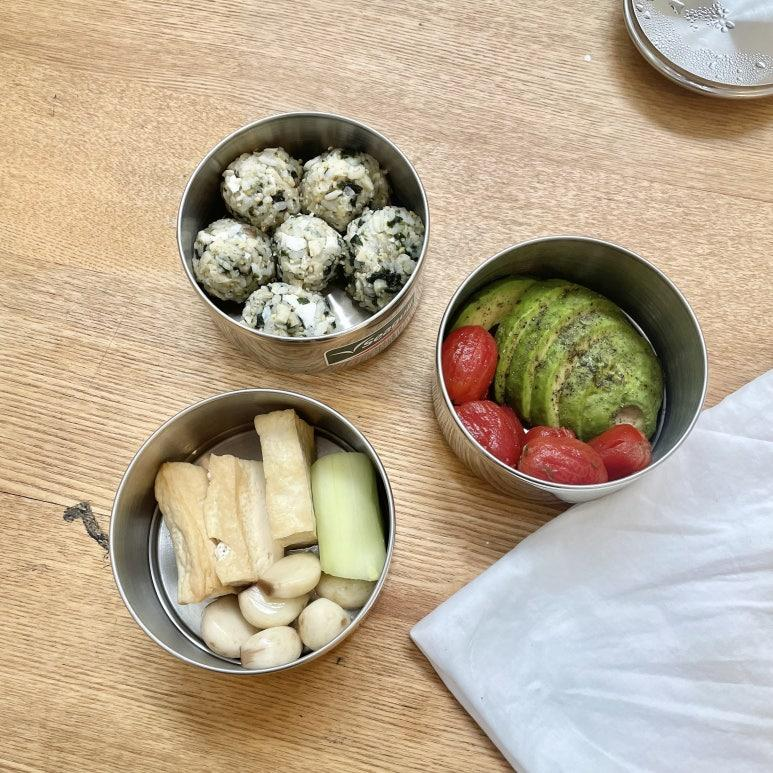Lunch Box: (109, 389, 394, 673), (433, 236, 706, 502), (177, 113, 428, 371)
